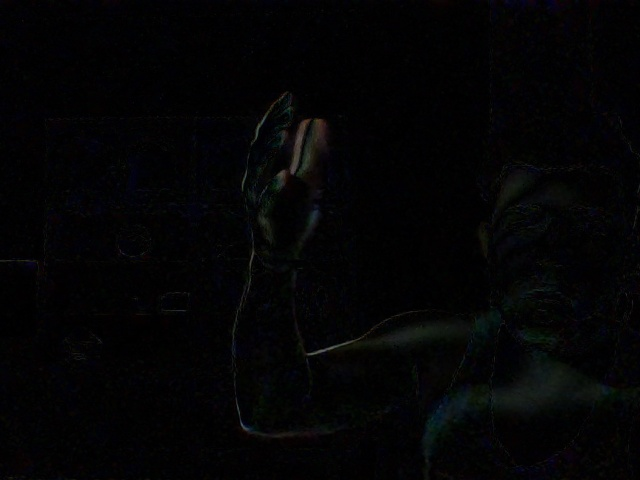arm_fo: (211, 80, 329, 391)
